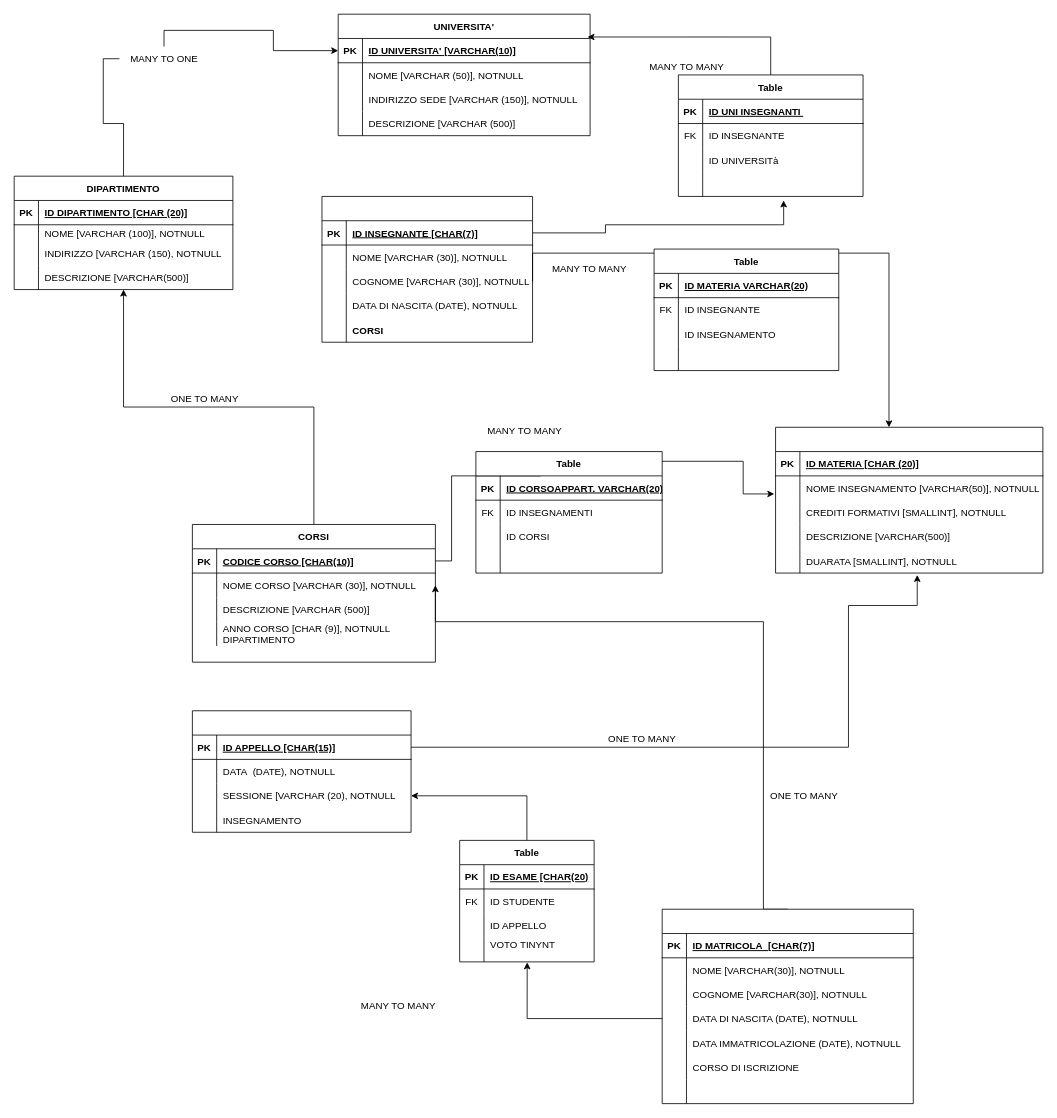
Some shapes in this 1057 by 1118 pixel diagram are drawn without their labels. Here are the shapes that lost their labels. From the top down, the box of each, then its label:
(321, 196, 533, 342): INSEGNANTI
(775, 426, 1043, 573): INSEGNAMENTI
(192, 710, 411, 832): APPELLI
(661, 908, 913, 1104): STUDENTI
